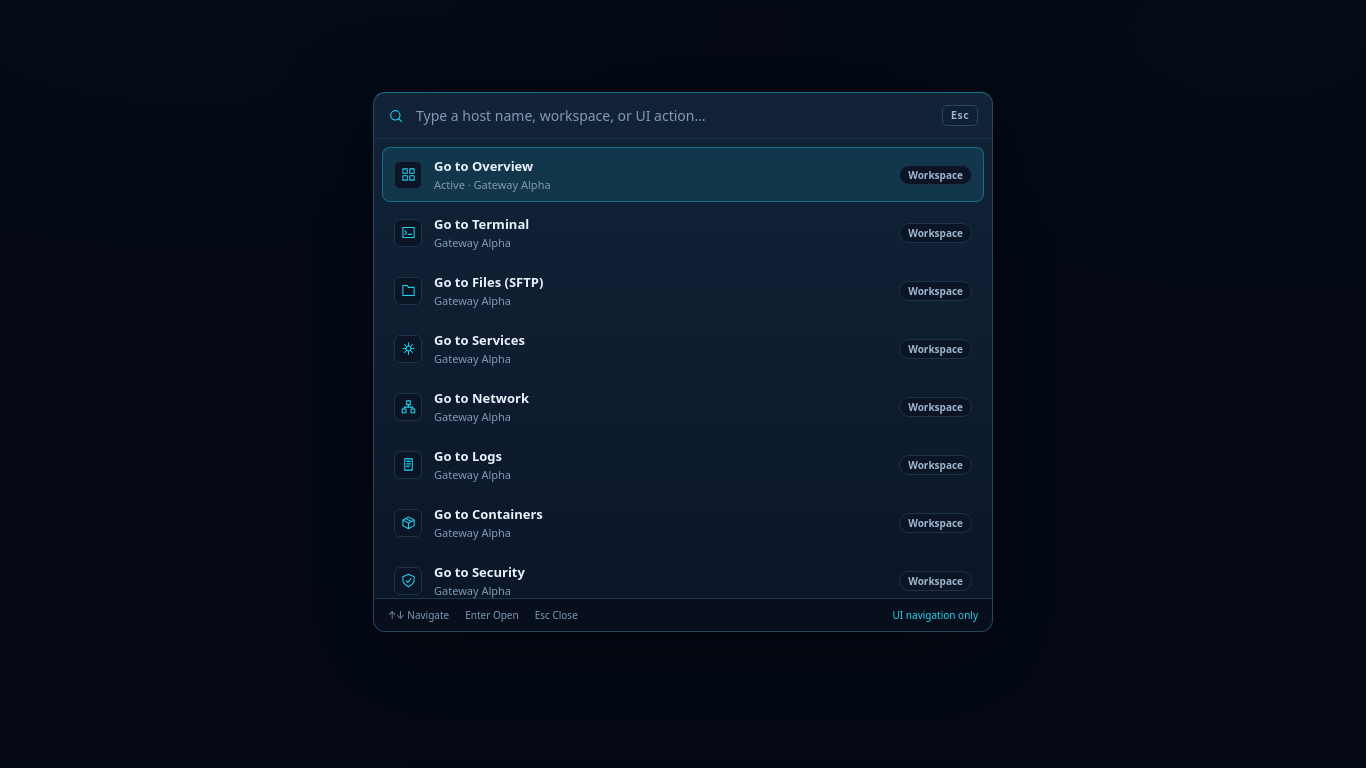
Test: CommandPalette › filters safe navigation/host actions, supports keyboard selection, and executes on Enter
Later steps or results of the test are not shown.
Expected: the text "UI navigation only" is shown, [892,608,978,622]
In the search field named "Filter commands and hosts": (673, 116) [414,105,932,126], type "Worker"
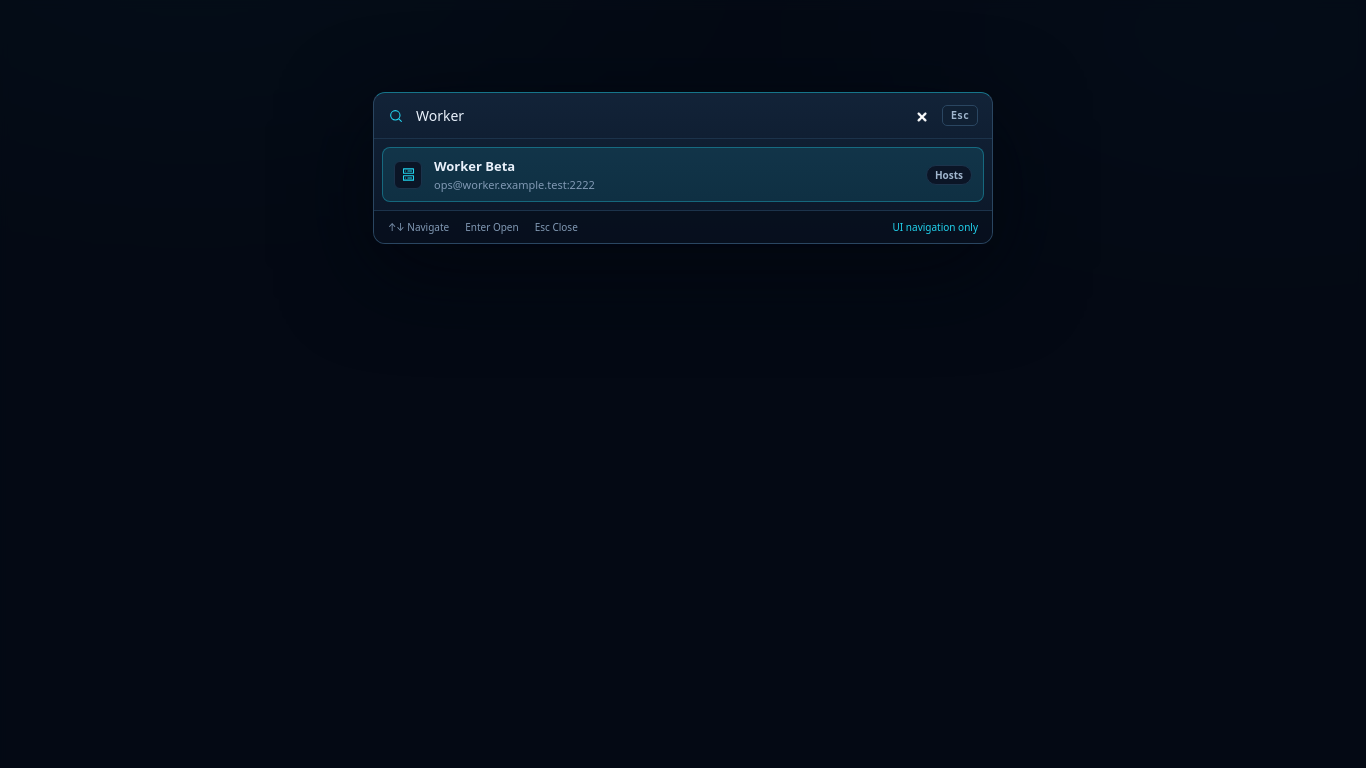
Expected: the number of options is 1, [382,147,984,202]
Expected: the option shows "Worker Beta", [382,147,984,202]
